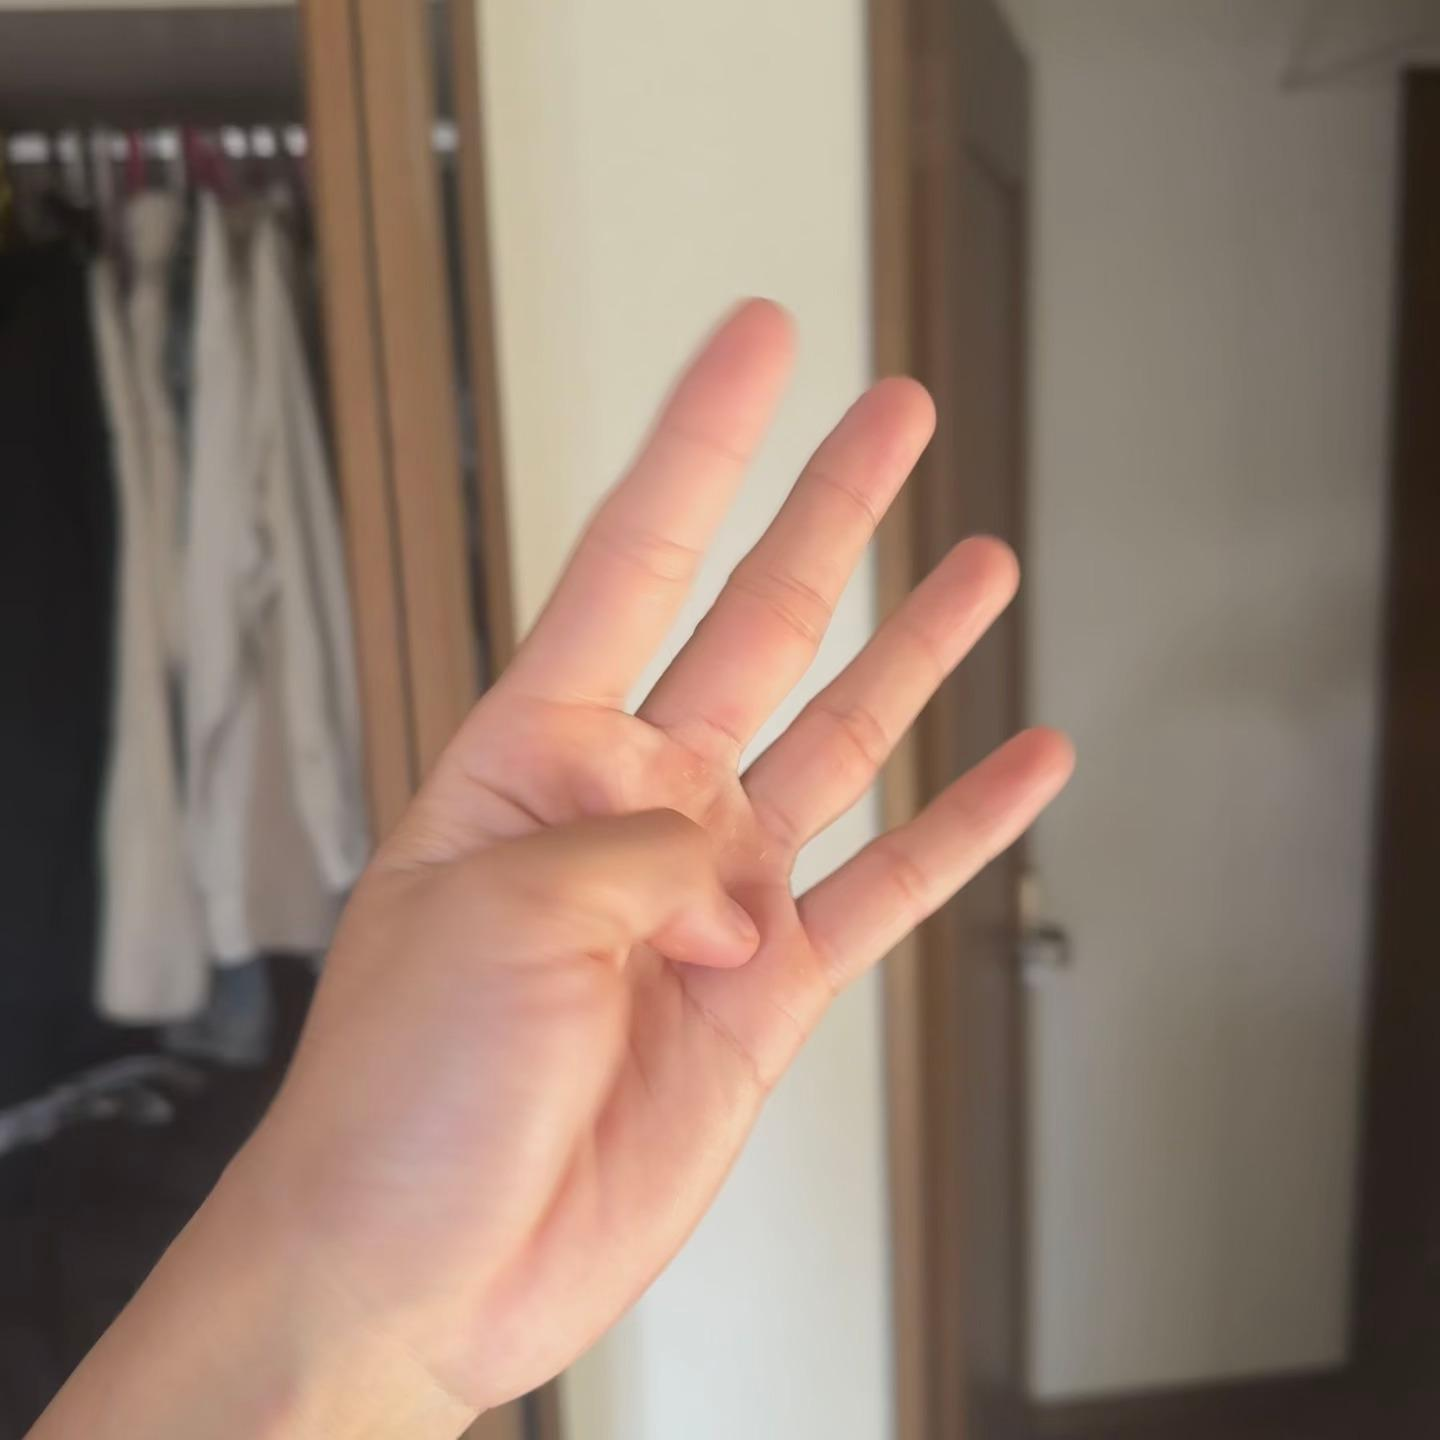without_gloves: (167, 142, 1133, 1440)
